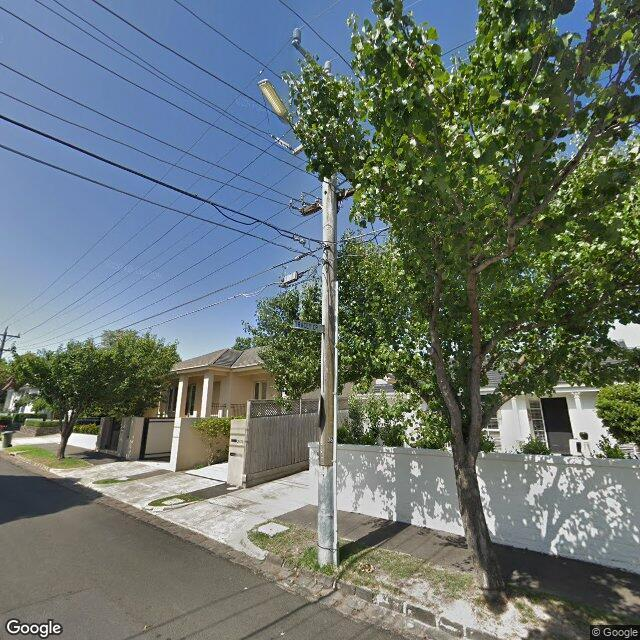HV-transmission: (0, 325, 22, 338)
crossarm: (288, 186, 358, 216), (0, 334, 21, 338)
streetlight: (258, 79, 302, 146)
timber-pole: (317, 172, 338, 568), (0, 330, 7, 358)
